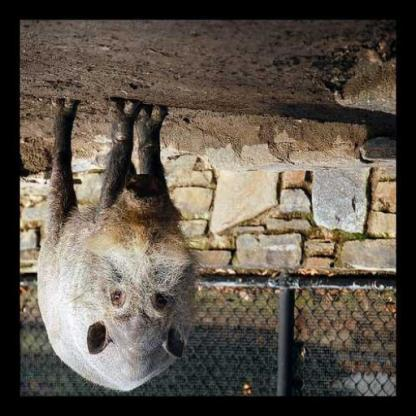boar: (23, 102, 252, 412)
